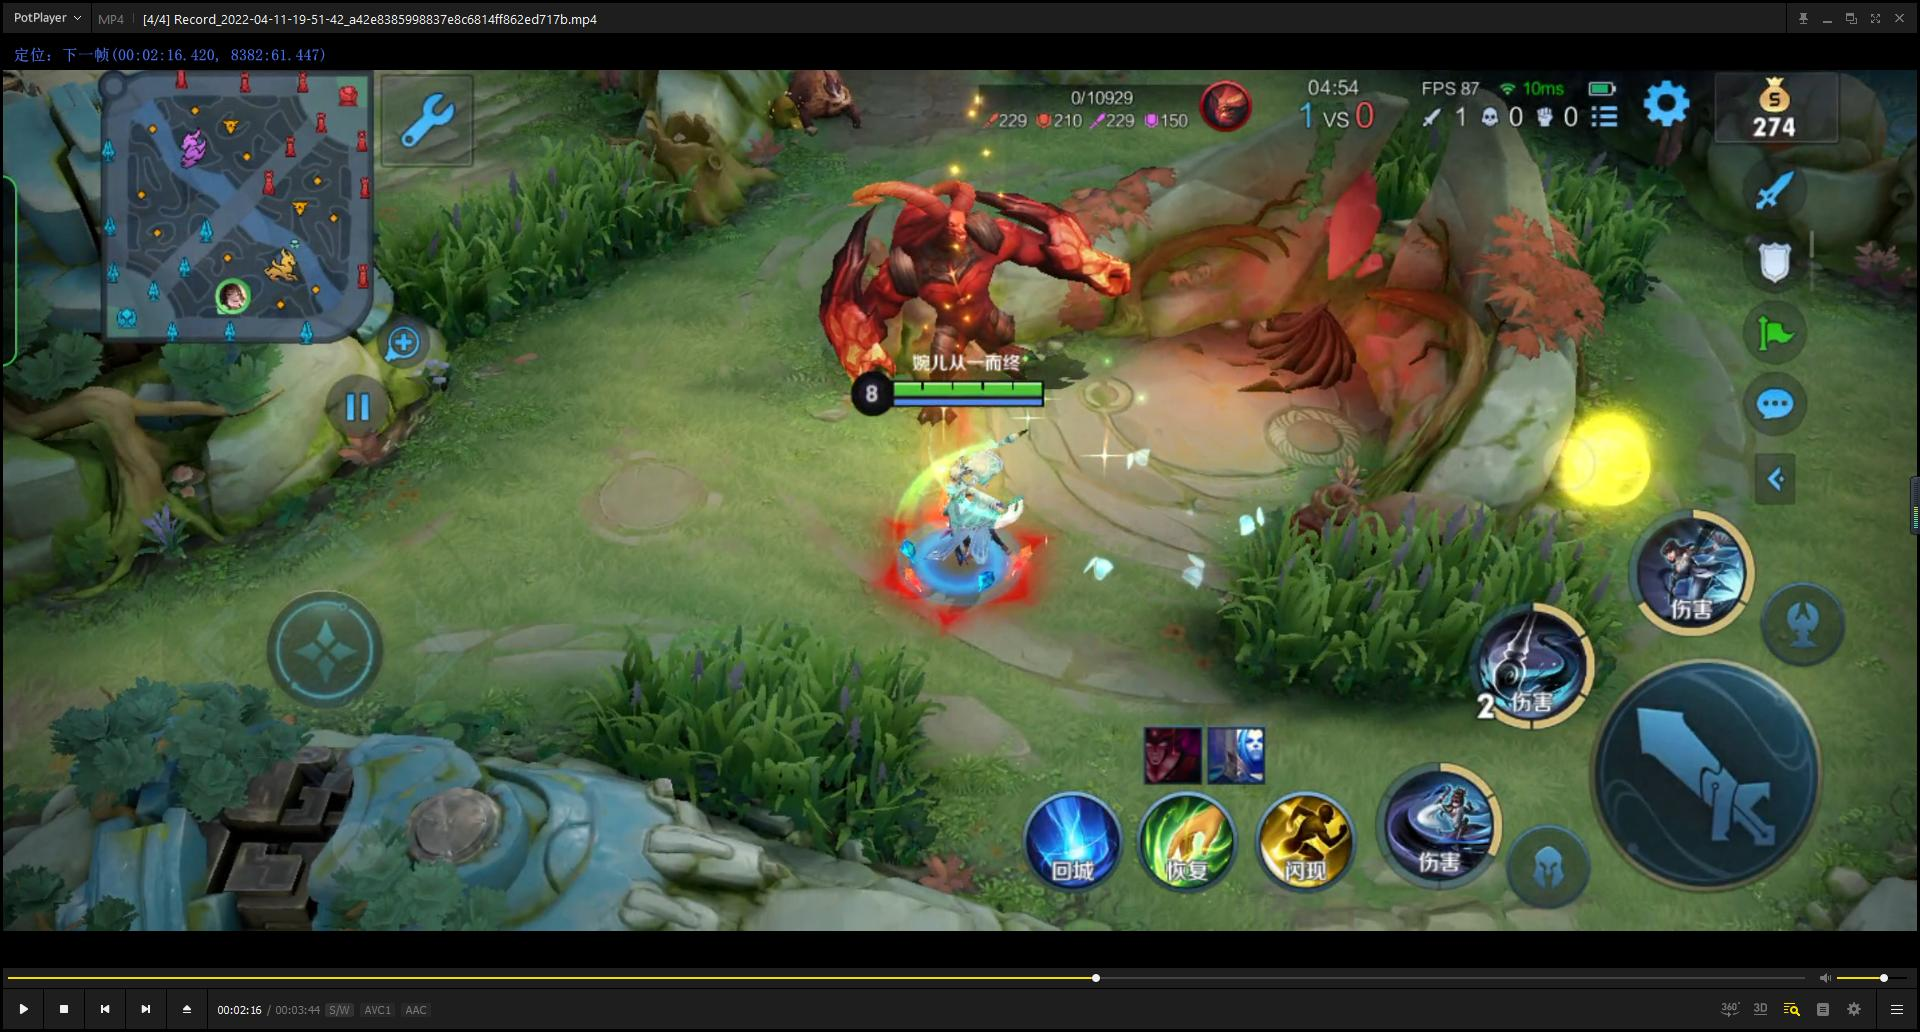Buff: (759, 147, 1186, 446)
Hero: (858, 438, 1064, 621)
Pig: (756, 70, 877, 153)
